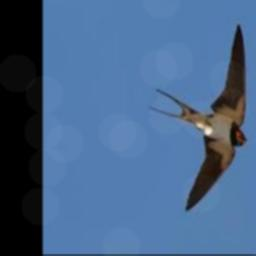Swallow: (150, 23, 248, 209)
